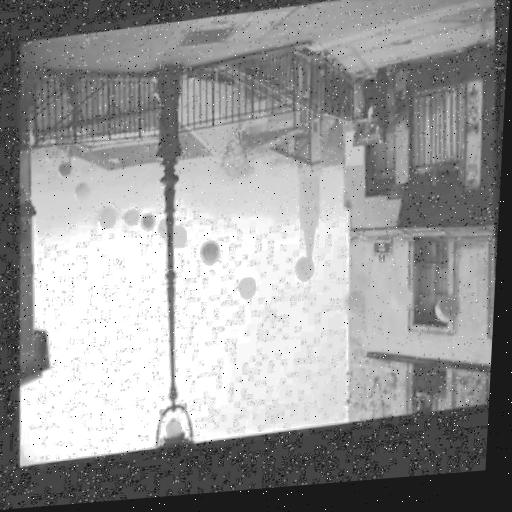balloon: (429, 297, 458, 330), (385, 290, 409, 320), (340, 294, 362, 324), (197, 243, 217, 270), (292, 259, 311, 286), (94, 207, 114, 230), (233, 280, 252, 304), (169, 227, 185, 252), (71, 183, 89, 203), (55, 161, 70, 181), (154, 220, 166, 244), (120, 211, 137, 227), (138, 215, 152, 233), (42, 146, 56, 162)
